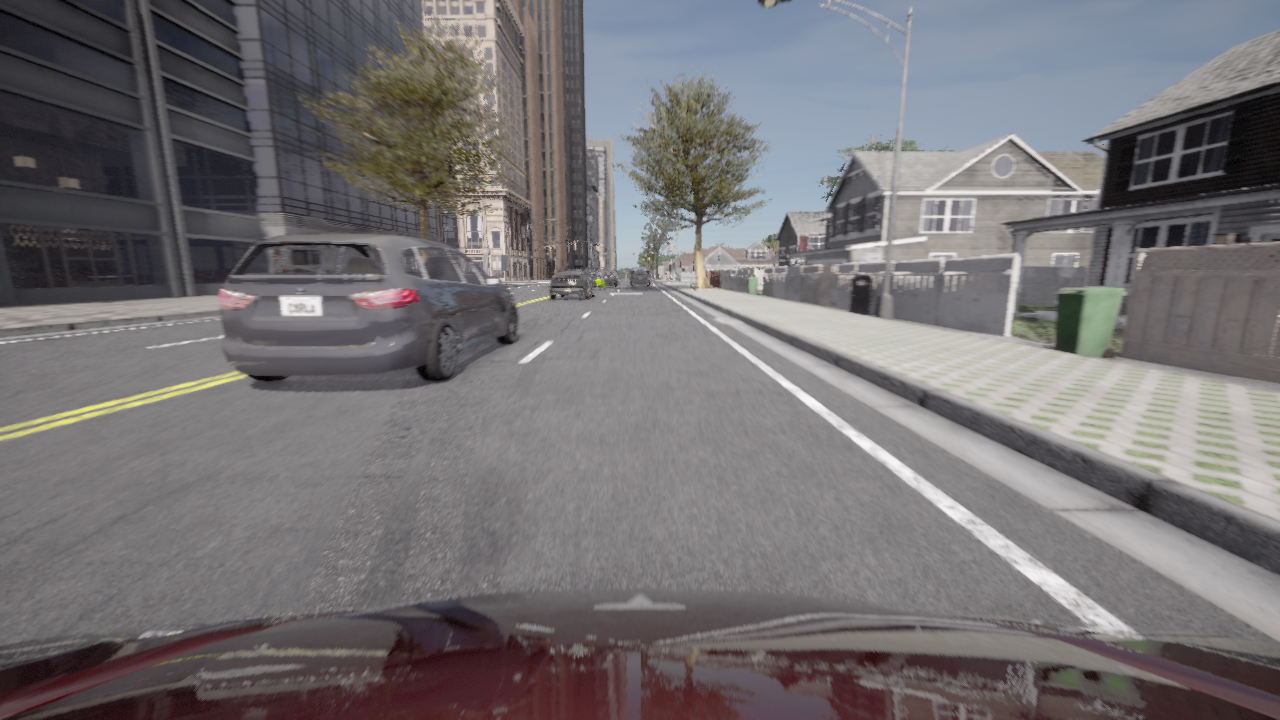cyclist: (0, 588, 1279, 719), (218, 233, 518, 381), (549, 268, 597, 299), (629, 267, 651, 285), (597, 270, 617, 287), (590, 272, 606, 290), (631, 271, 648, 286), (614, 271, 620, 284)
